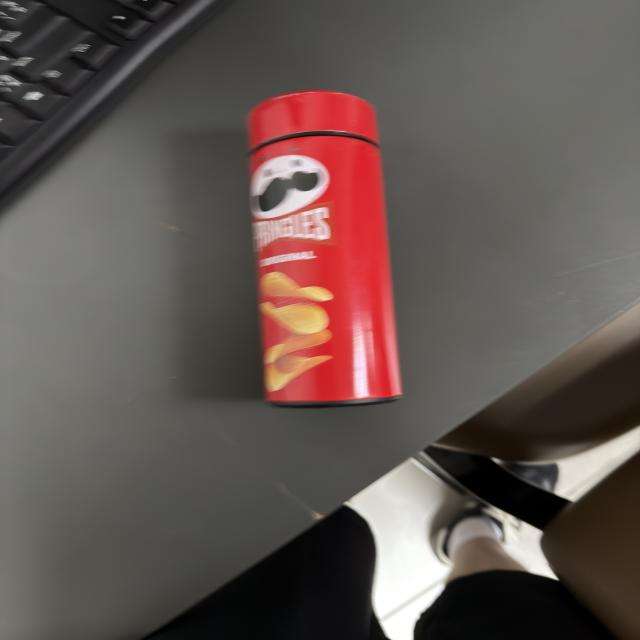water bottle: (248, 91, 402, 407)
